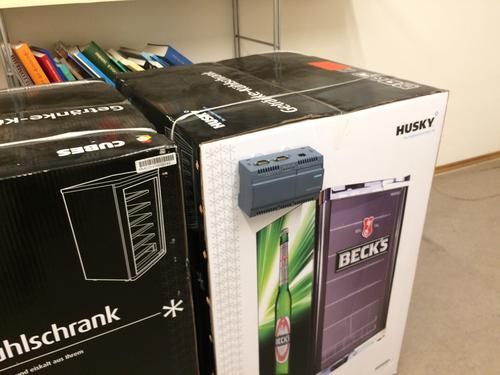iot2000: (236, 145, 325, 218)
